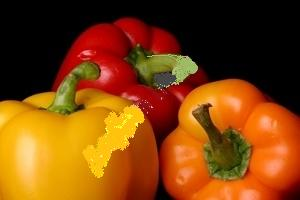capsicum: (0, 62, 158, 199), (52, 17, 207, 133), (159, 77, 299, 199)
